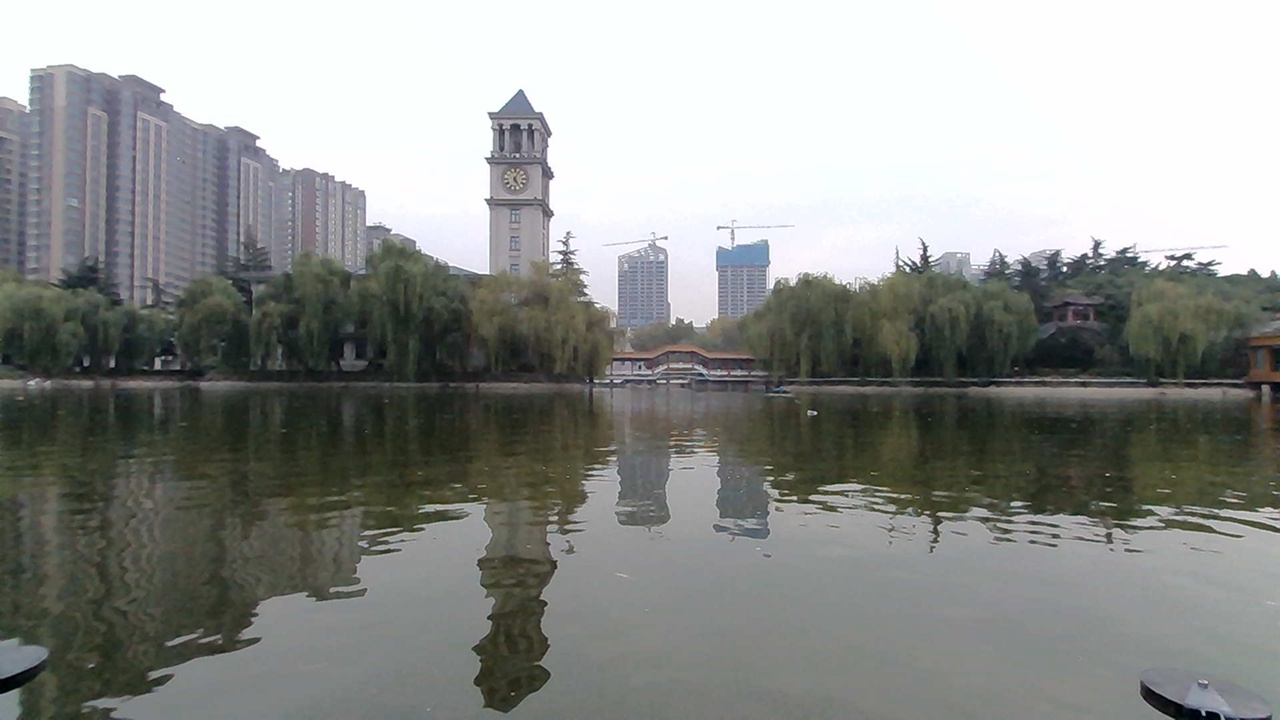bottle: (794, 400, 840, 424)
